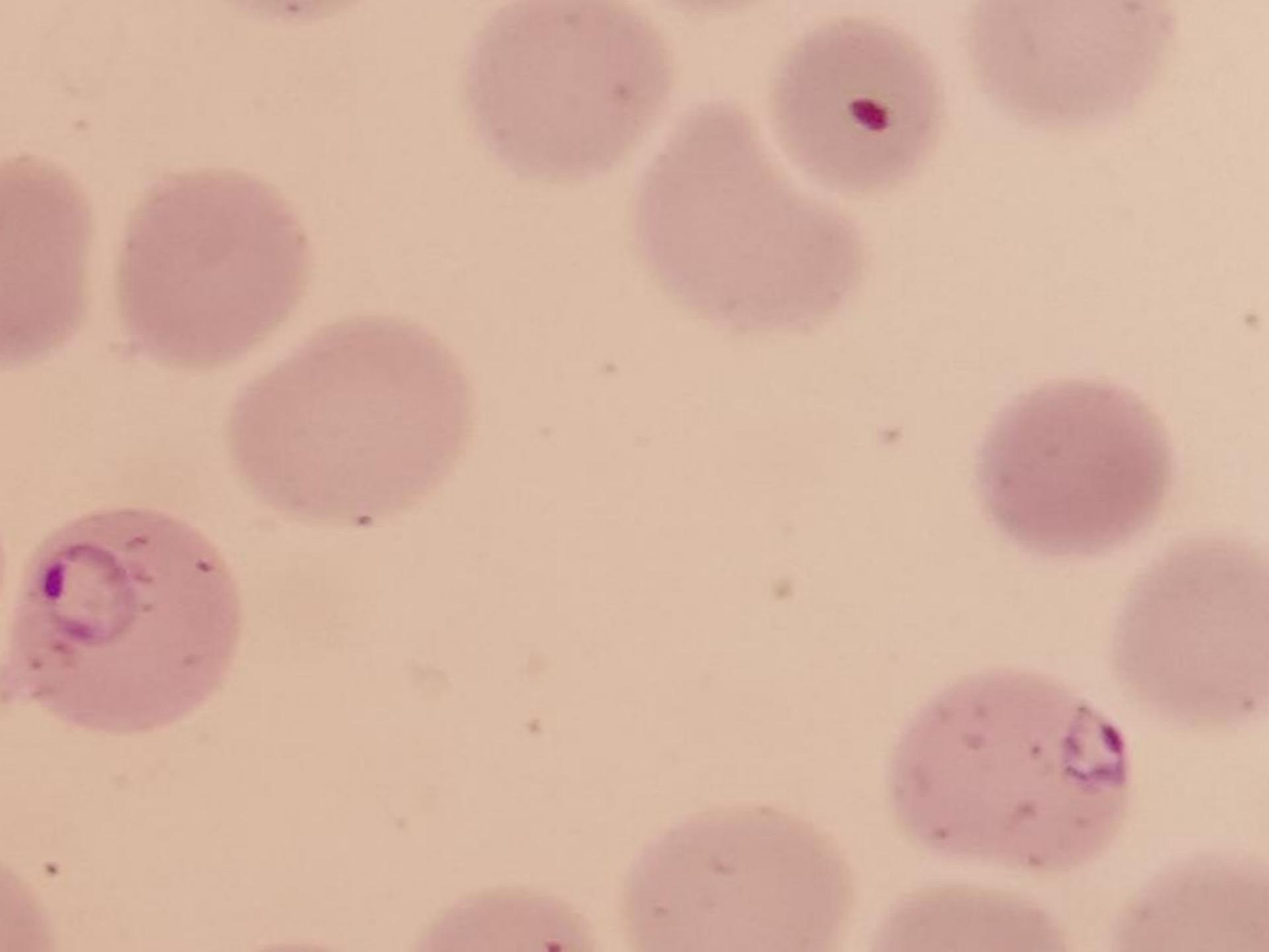Infected: (13, 504, 242, 736), (892, 664, 1130, 870)
Uninfected: (636, 104, 869, 338), (233, 309, 467, 523), (464, 0, 676, 185), (114, 172, 315, 366), (623, 805, 853, 952), (980, 377, 1171, 552), (1114, 535, 1269, 720), (775, 25, 943, 194), (963, 0, 1172, 124)
